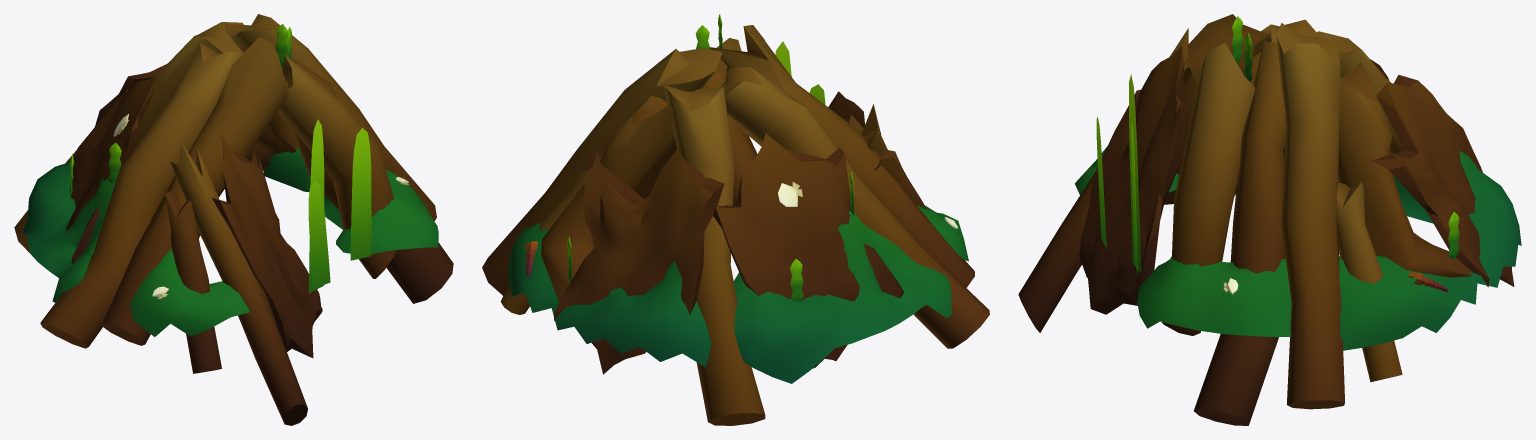
The model's file is House_wood_a.fbx.
3 renders of one model, left to right at view 1: azimuth 30°, elevation 25°; view 2: azimuth 150°, elevation 25°; view 3: azimuth 270°, elevation 25°, orthographic. The views are drawn at different scales.
Parts seen in each view (by area): view 1: Sticks, Moss, Bark, door, Seaweed_2; view 2: Sticks, Bark, Moss, door, Seaweed_3, Shell_1; view 3: Sticks, Bark, Moss, door.
Boxes of the visible parts, x1,y1,x2,y2 form: Sticks: (14,14,453,425); Moss: (22,146,438,336); Bark: (66,64,322,357); door: (308,119,371,293); Seaweed_2: (108,142,121,182); Sticks: (482,25,989,425); Bark: (553,91,903,374); Moss: (508,205,968,383); door: (775,41,825,104); Seaweed_3: (790,258,803,301); Shell_1: (777,181,802,206); Sticks: (1018,14,1471,425); Bark: (1079,46,1514,314); Moss: (1075,146,1521,350); door: (1096,74,1141,275).
Bounding box in the file's own units: 20.85 × 14.72 × 18.8.
Materials: 1 (1 with a texture image).
